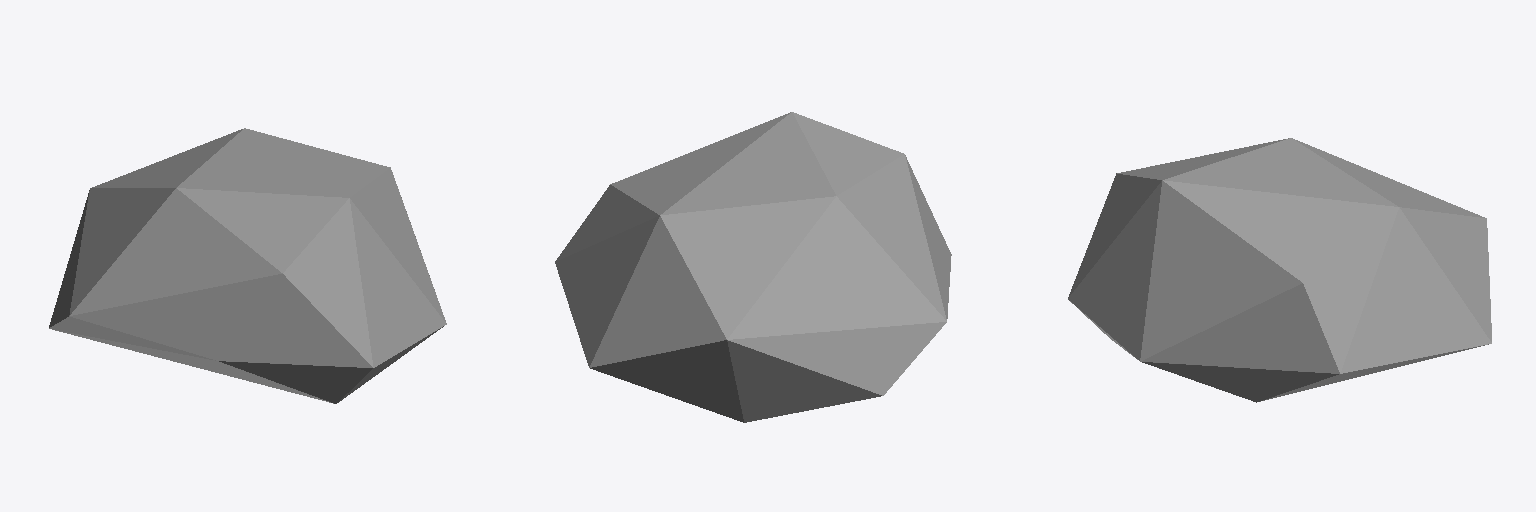
The model's file is Low_Poly_Rock_Big_003.obj.
3 renders of one model, left to right at view 1: azimuth 30°, elevation 25°; view 2: azimuth 150°, elevation 25°; view 3: azimuth 270°, elevation 25°, orthographic.
Visible parts, largest first — view 1: Low_Poly_Rock_Big_003_Icosphere.006; view 2: Low_Poly_Rock_Big_003_Icosphere.006; view 3: Low_Poly_Rock_Big_003_Icosphere.006.
Part boxes in pixels (bbox=[...]): Low_Poly_Rock_Big_003_Icosphere.006: bbox=[49, 128, 446, 403]; Low_Poly_Rock_Big_003_Icosphere.006: bbox=[555, 112, 951, 422]; Low_Poly_Rock_Big_003_Icosphere.006: bbox=[1068, 138, 1491, 402].
Bounding box in the file's own units: 4.38 × 2.12 × 4.4.